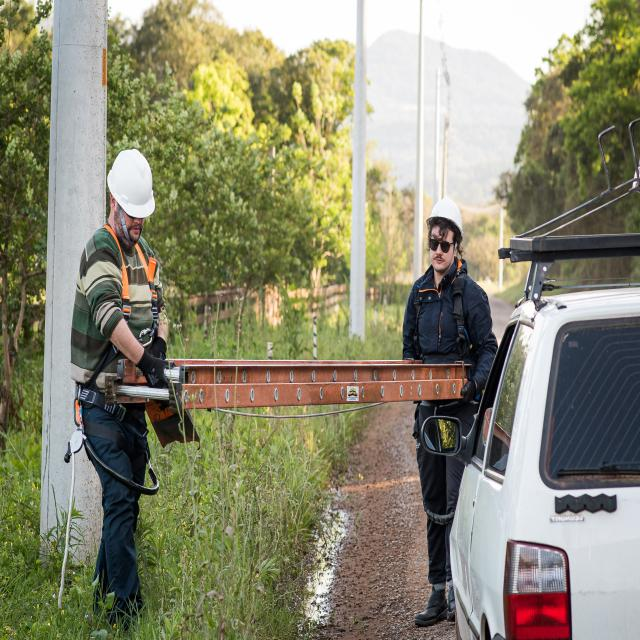botas: (412, 586, 450, 630)
capacete: (105, 145, 157, 216), (425, 194, 465, 242)
corda de vida: (61, 221, 161, 472), (410, 266, 474, 467)
luva: (134, 349, 176, 394), (458, 376, 478, 411)
